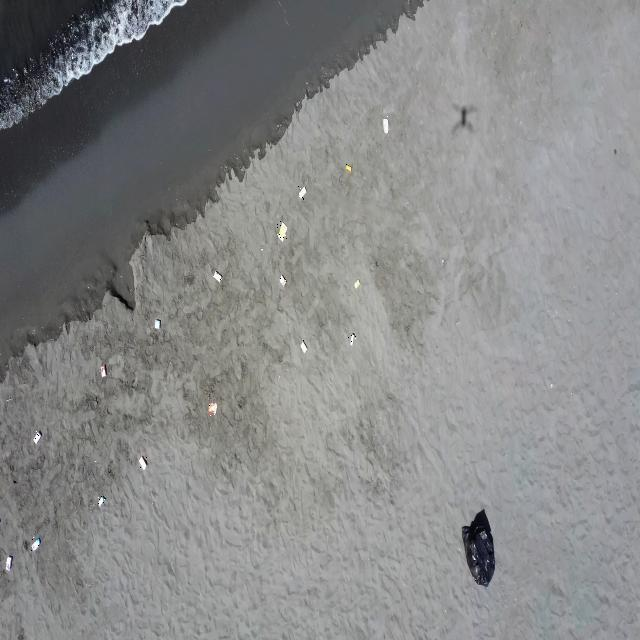retort-pouch: (277, 221, 288, 241), (30, 535, 42, 553), (138, 454, 148, 471), (5, 554, 14, 572), (298, 185, 308, 201), (33, 429, 42, 446), (213, 269, 223, 284), (208, 402, 217, 418), (348, 331, 356, 348), (382, 116, 389, 134), (98, 493, 106, 508), (300, 340, 308, 354), (100, 363, 107, 379), (279, 273, 286, 287), (154, 318, 161, 331), (354, 278, 360, 290), (346, 163, 352, 174)
